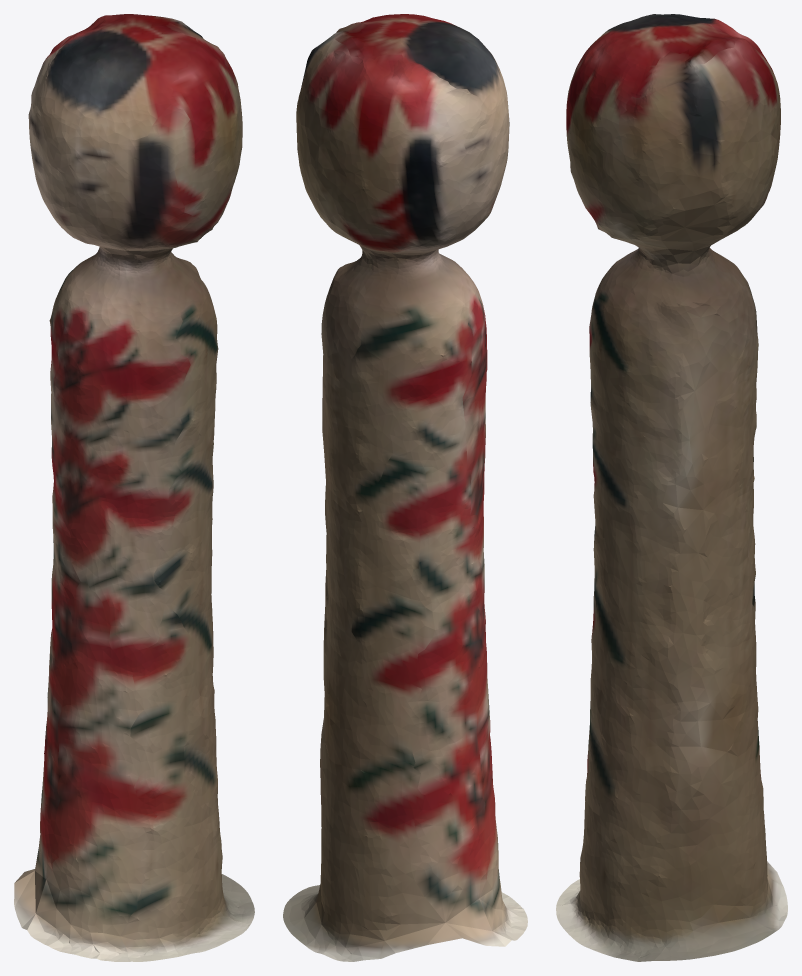
Rendered from kokeshi002.glb.
The picture shows the model from 3 angles, left to right: view 1: azimuth 30°, elevation 25°; view 2: azimuth 150°, elevation 25°; view 3: azimuth 270°, elevation 25°; orthographic projection.
Visible parts, largest first — view 1: mesh; view 2: mesh; view 3: mesh.
Boxes of the visible parts, x1,y1,x2,y2 form: mesh: (14, 14, 254, 961); mesh: (283, 14, 527, 961); mesh: (556, 14, 787, 961).
Size of the model in its own units: 0.0614 by 0.2438 by 0.0579.
1 material, 1 textured.
